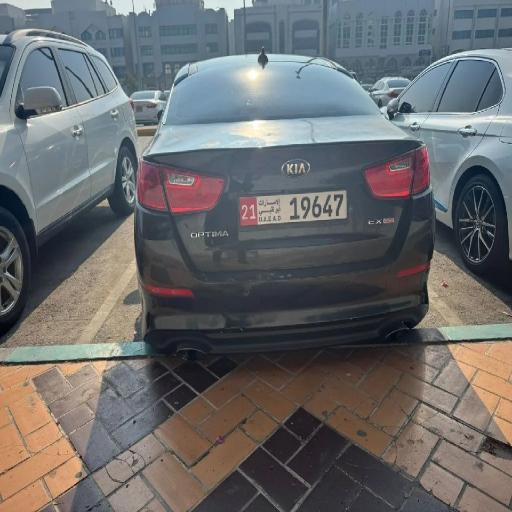license-plates: (240, 190, 347, 226)
